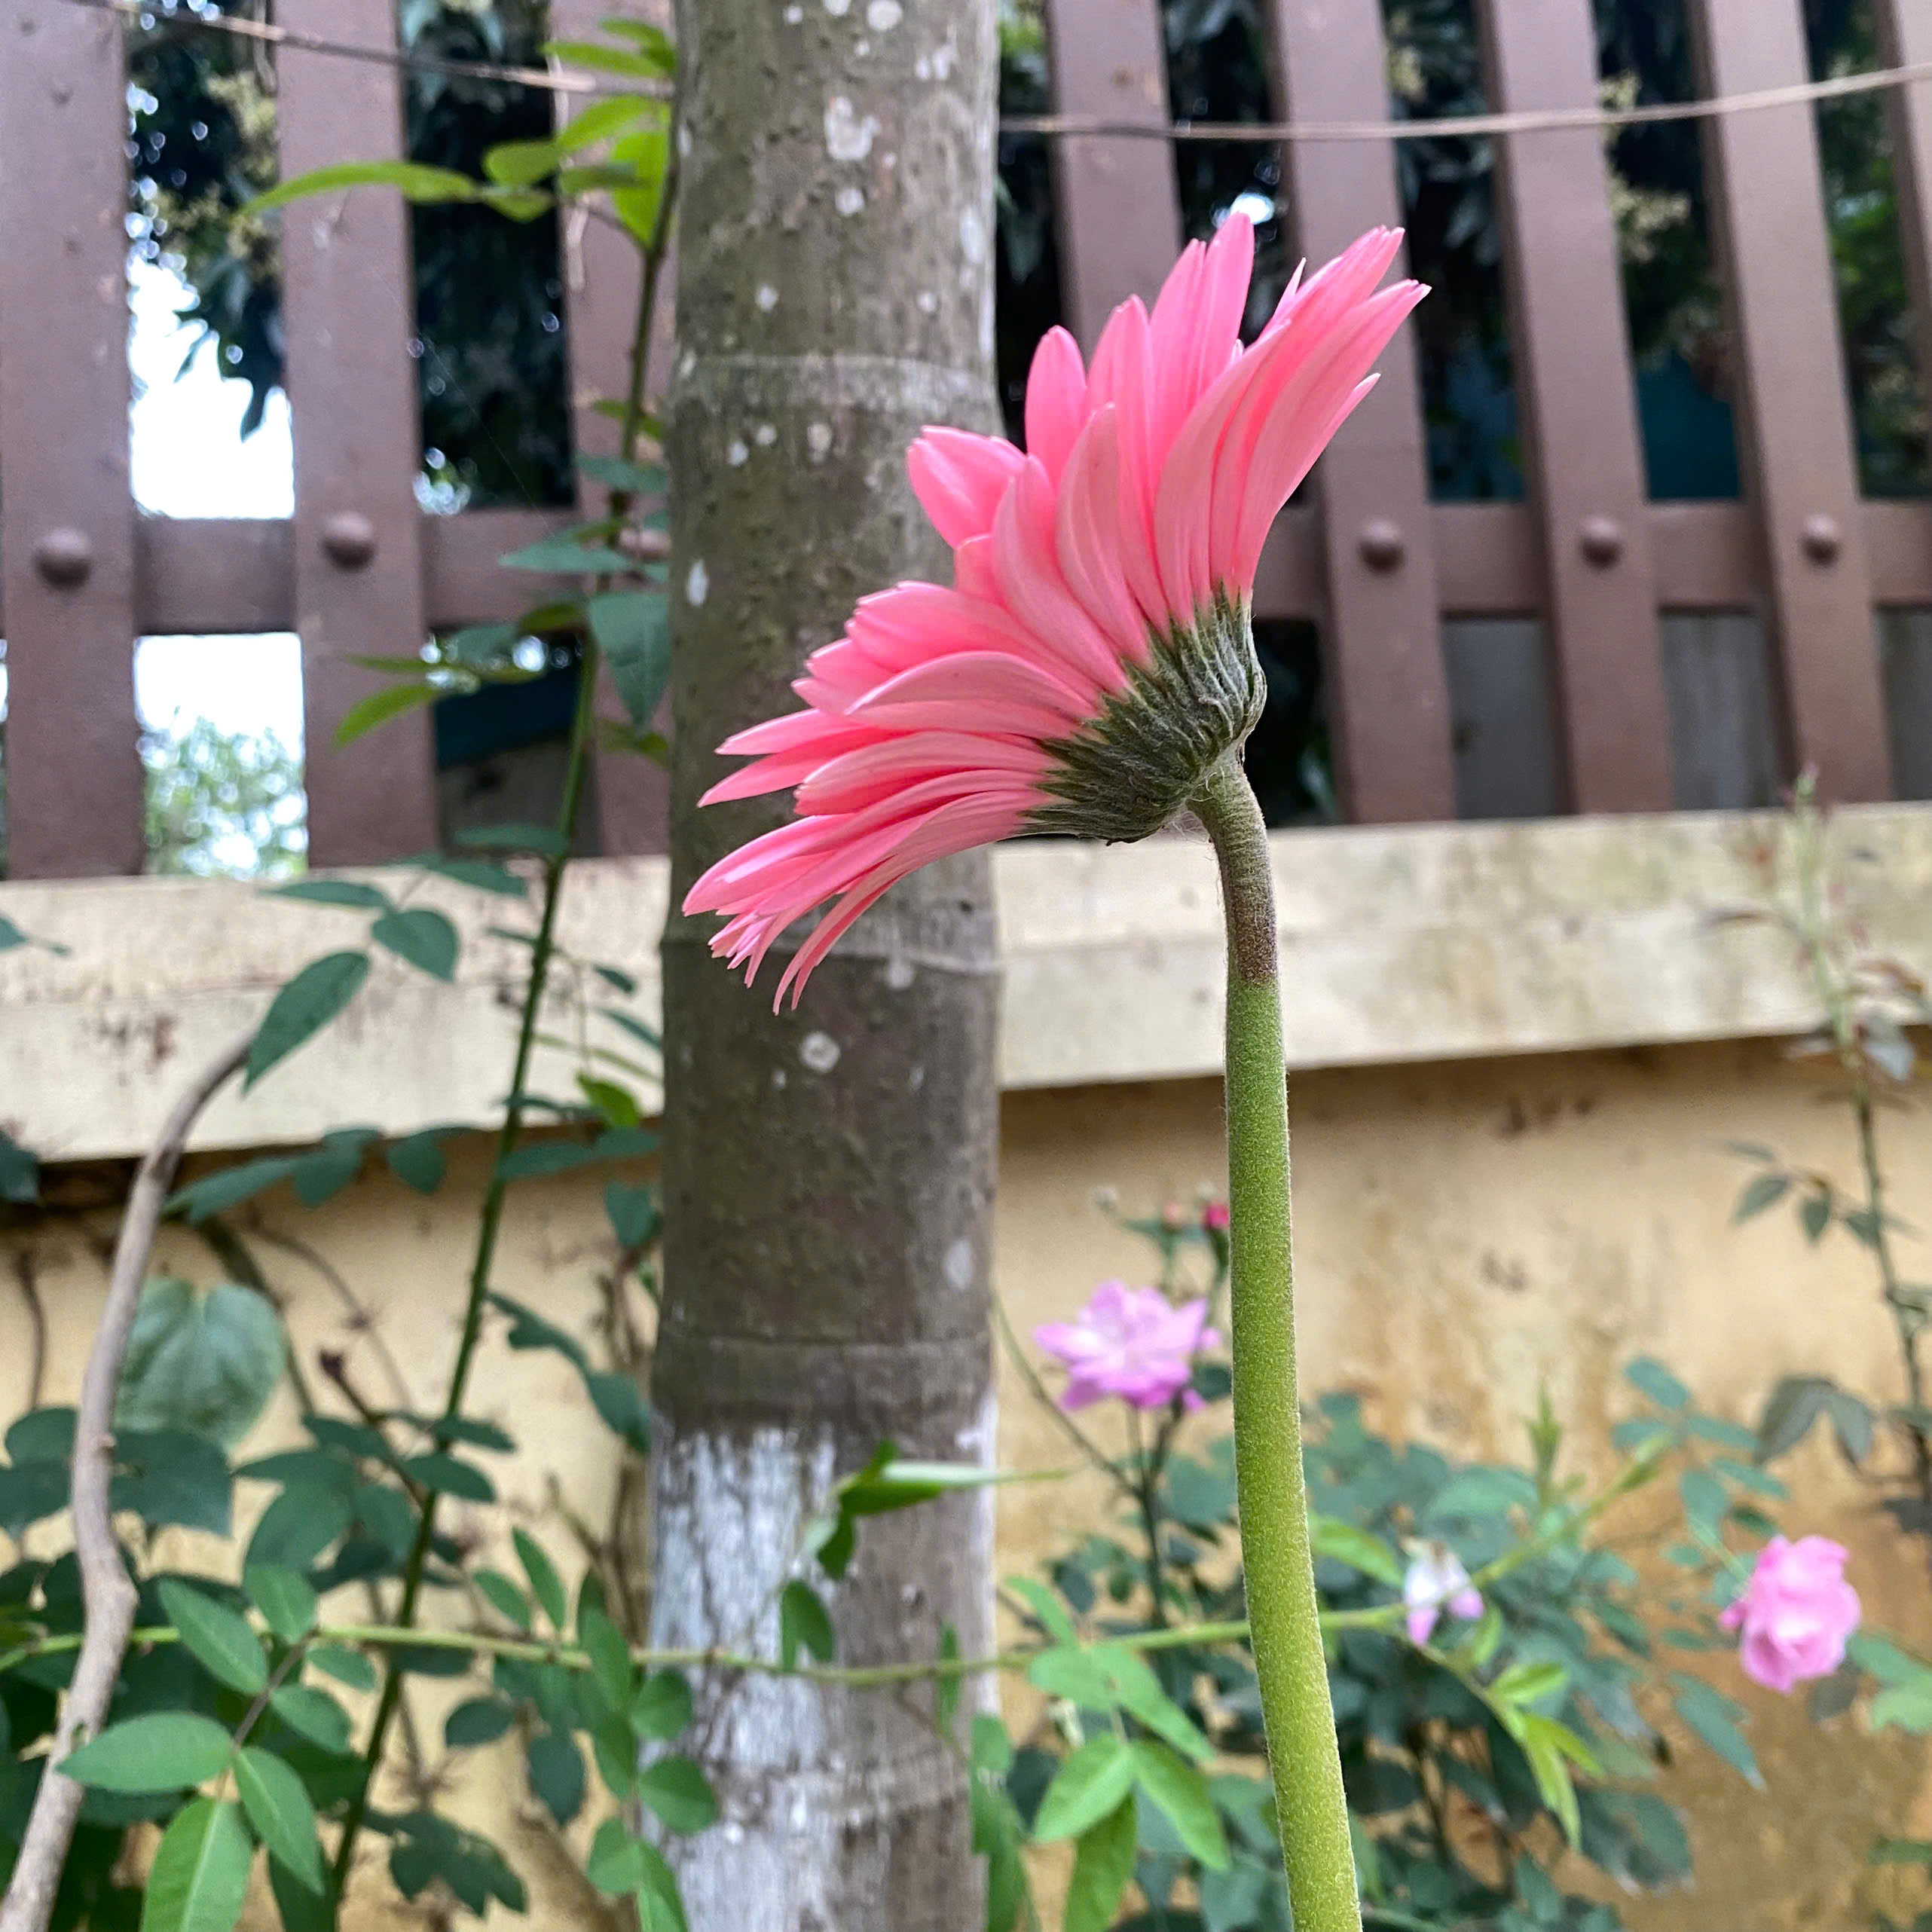hoa_huong_duong: (655, 189, 1546, 1932)
